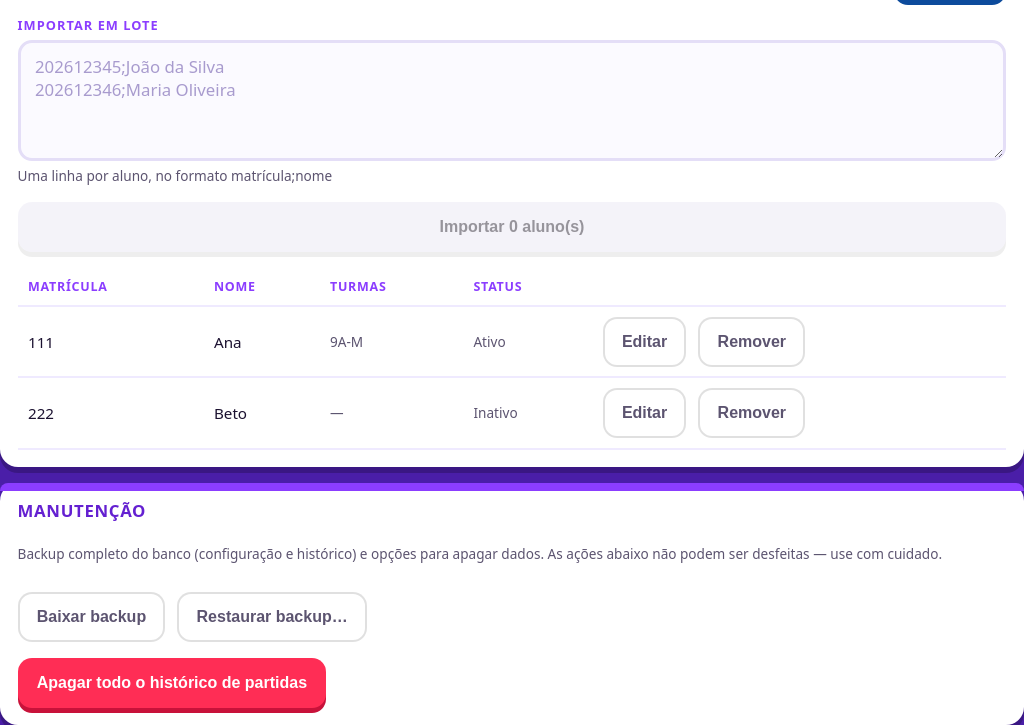
Test: ConfigPanel — Alunos › disables save when a student has no classes checked
(page scrolled)
Click the button "Editar" in the row of "111". click: (645, 342)
box: [603,317,686,367]
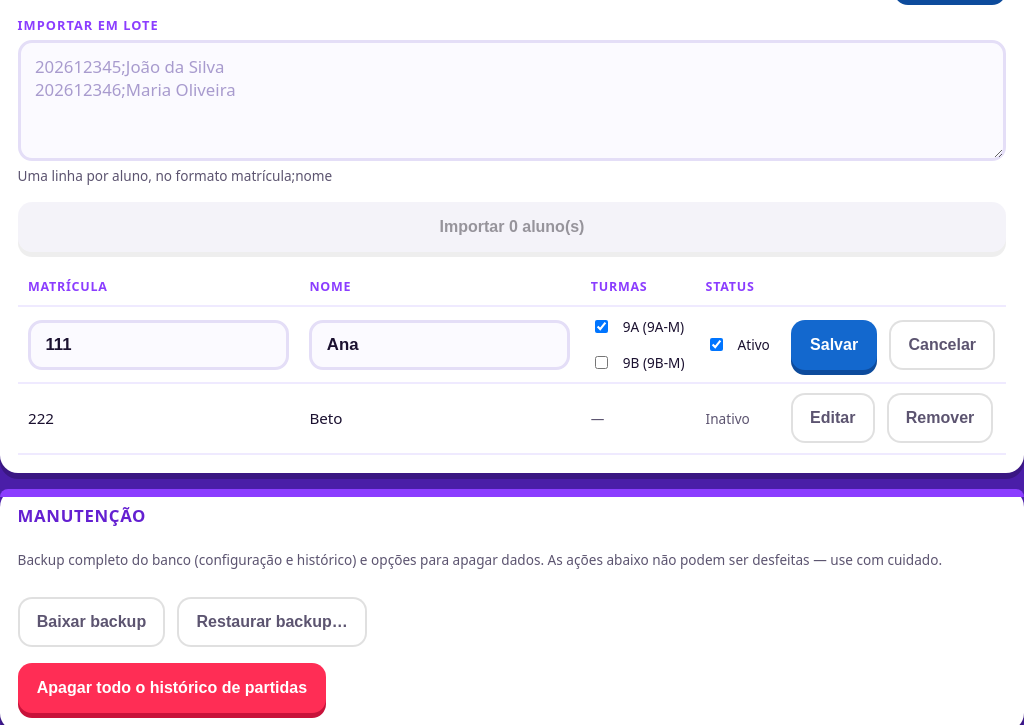
Uncheck the only enrolled class (9A).
Click the checkbox labelled "9A (9A-M)". click: (601, 327)
box: [595,320,608,333]
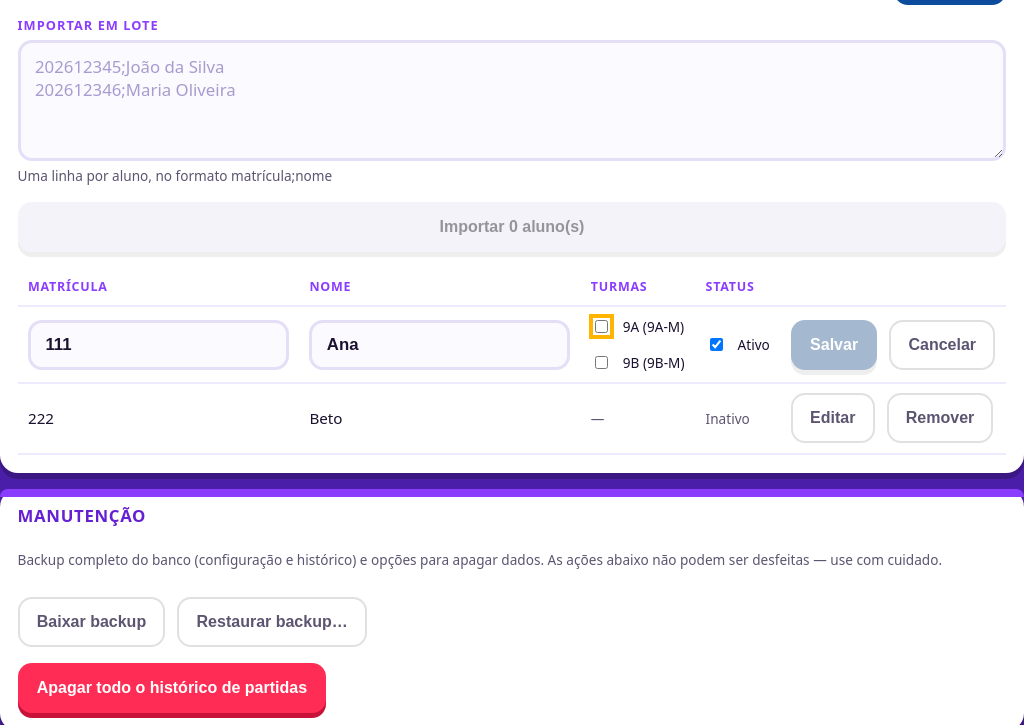
Check: the button "Salvar" is disabled, box [791,320,877,370]
